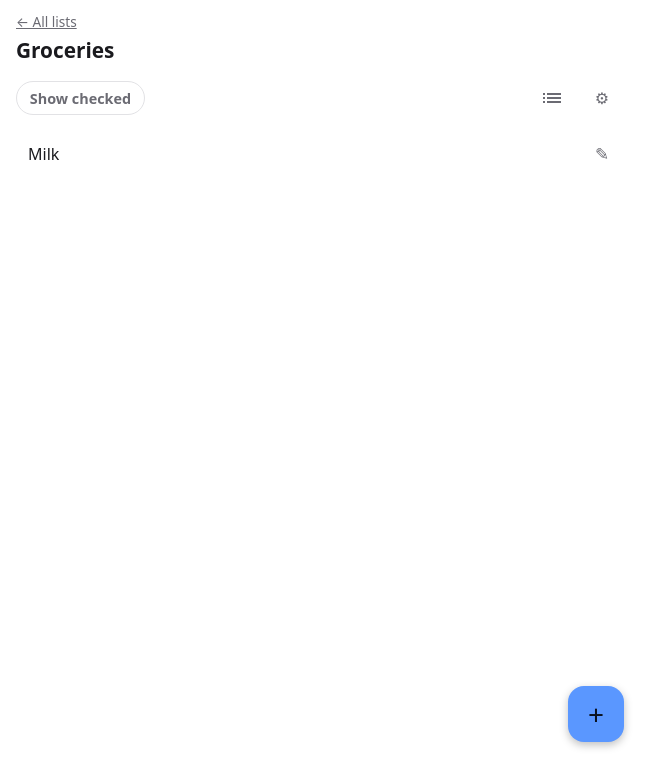
Scenario: ListPropsPage clear-checked (T-75) › shows the checked count and moves every checked item to backlog on click
Expected: the link "Groceries" is shown, [16, 36, 114, 64]
Click the link named "List properties". click: (602, 98)
box: [595, 87, 609, 109]
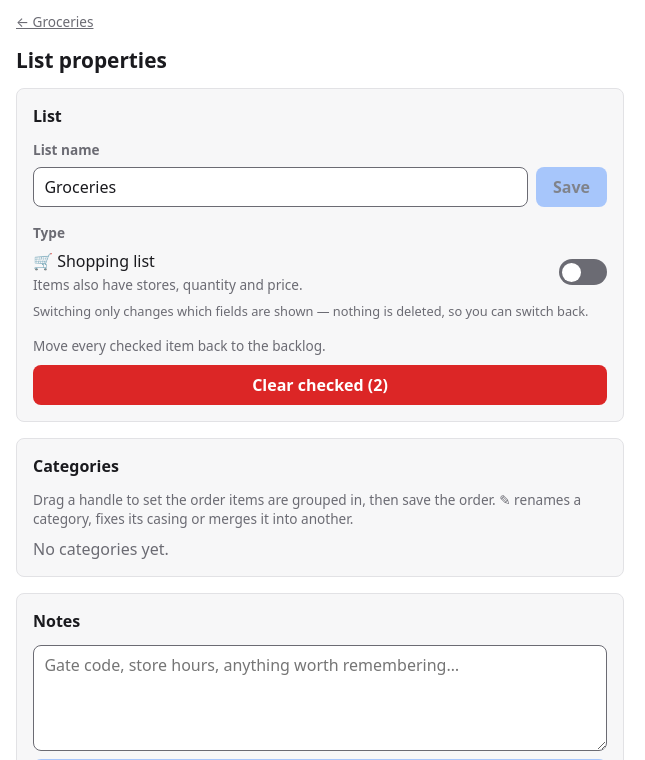
Click the button "Clear checked (2)". click: (320, 385)
box: [33, 365, 607, 405]
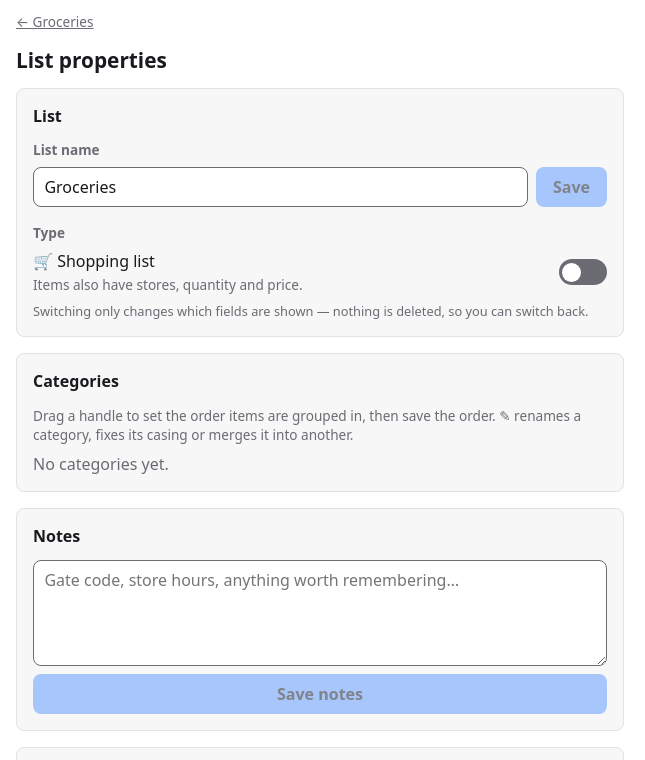
Expected: the button "Clear checked" is gone
